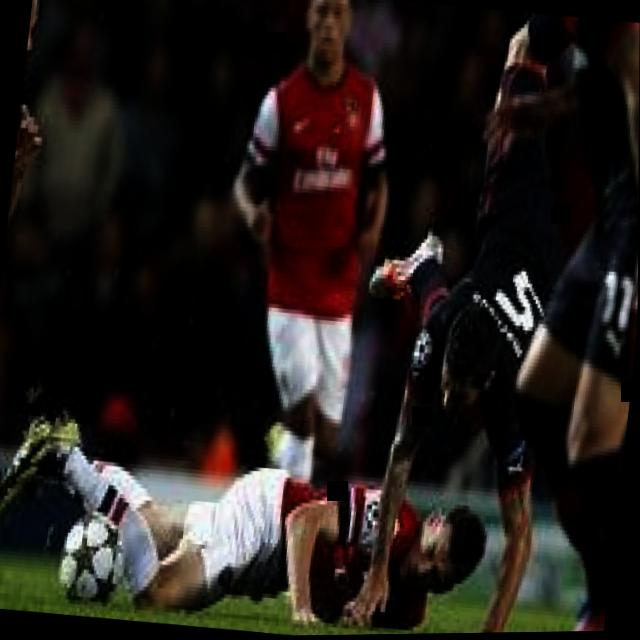Fall-Detected: (339, 58, 603, 603)
